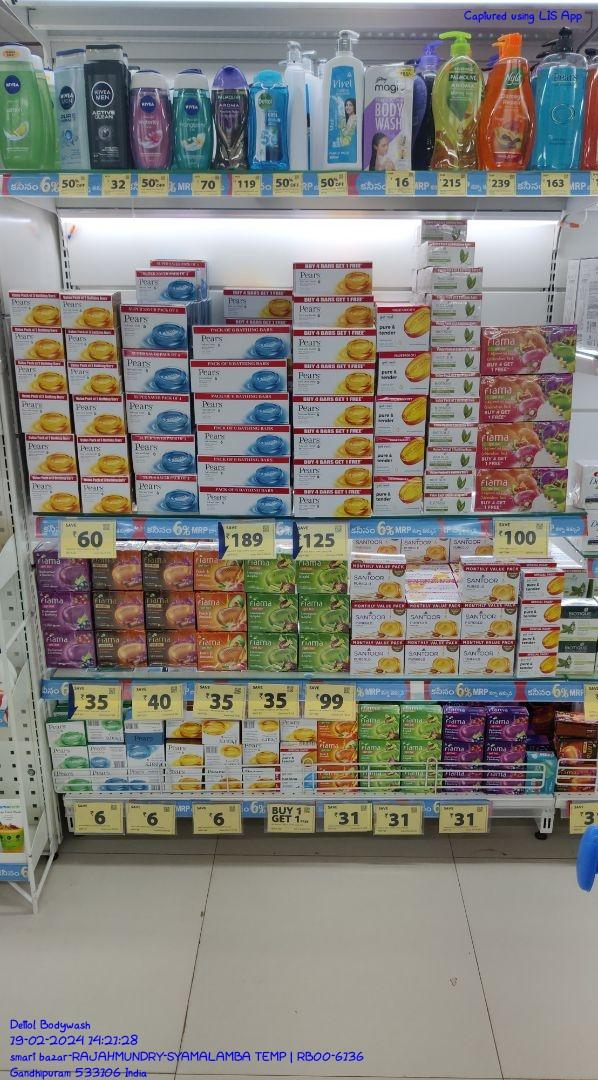Dettol_Bodywash_Cool: (248, 72, 289, 168)
Nivea_Shower_Gel_Frangipani_and_Oil_250ML: (170, 71, 212, 170)
Nivea_Shower_Gel_Lemon_and_Oil_250ML: (1, 41, 45, 170)
Nivea_Shower_Gel_Waterlily_and_Oil_250ML: (131, 68, 170, 169)
